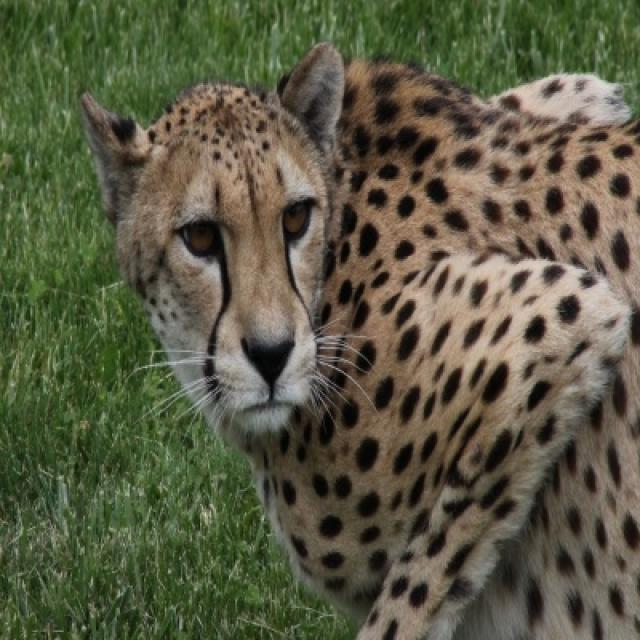Cheetah: (80, 43, 638, 638)
